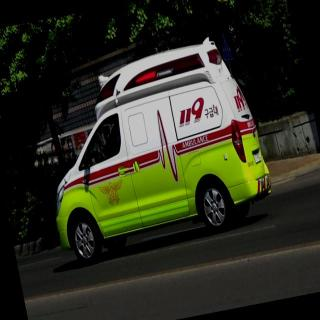Ambulance: (18, 27, 286, 268)
